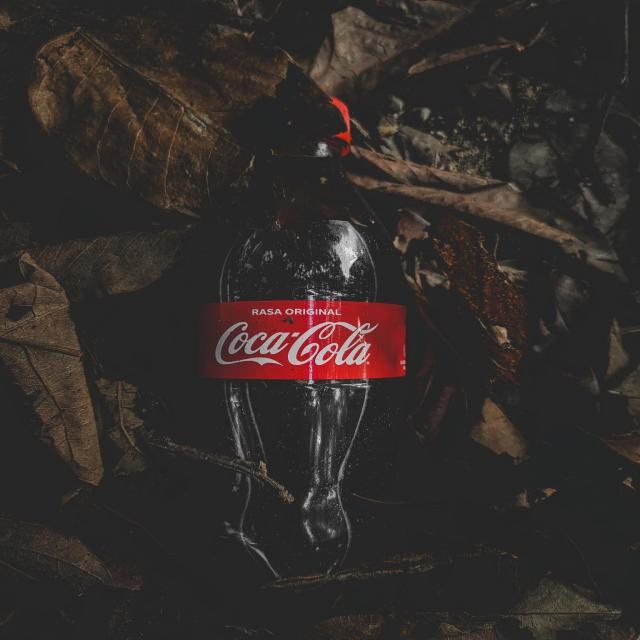coca-cola: (212, 319, 383, 370)
